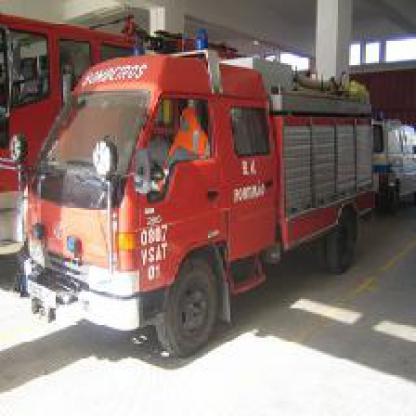emergency: (17, 24, 375, 364), (2, 7, 280, 325), (368, 91, 414, 234)
